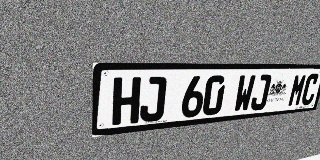0: (201, 75, 226, 116)
6: (180, 76, 206, 118)
C: (300, 74, 320, 106)
H: (112, 77, 141, 126)
J: (139, 77, 167, 123), (249, 75, 272, 111)
M: (287, 74, 308, 107)
W: (233, 75, 256, 113)
